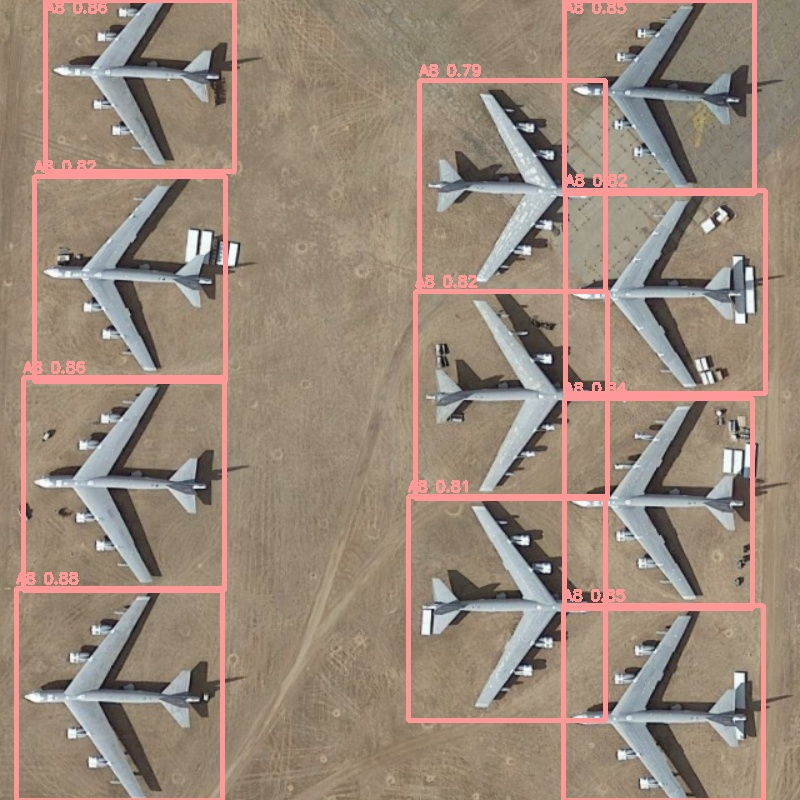A8: (408, 496, 605, 720), (16, 588, 222, 800), (23, 377, 224, 590), (565, 190, 765, 393), (415, 291, 607, 498), (564, 398, 752, 608), (419, 80, 605, 291), (34, 176, 225, 381), (563, 605, 763, 800), (564, 0, 754, 193), (45, 0, 234, 171)
